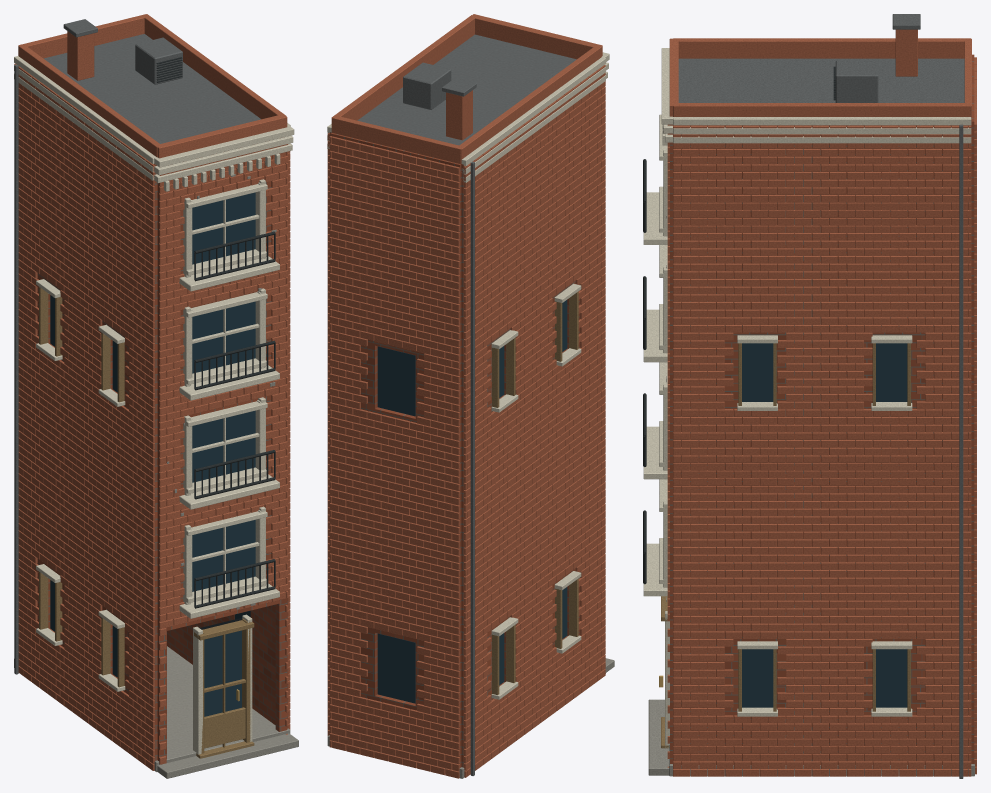
The model's file is OFFC22_lod0.glb.
3 renders of one model, left to right at view 1: azimuth 30°, elevation 25°; view 2: azimuth 150°, elevation 25°; view 3: azimuth 270°, elevation 25°, orthographic. The views are drawn at different scales.
Parts seen in each view (by area): view 1: OFFC22_LOD0; view 2: OFFC22_LOD0; view 3: OFFC22_LOD0.
Part boxes in pixels (x1,y1,x2,y2): OFFC22_LOD0: [14, 14, 298, 778]; OFFC22_LOD0: [327, 14, 614, 778]; OFFC22_LOD0: [643, 14, 976, 778].
Size of the model in its own units: 3.71 by 15.65 by 6.72.
Materials: 12 (9 with a texture image).
